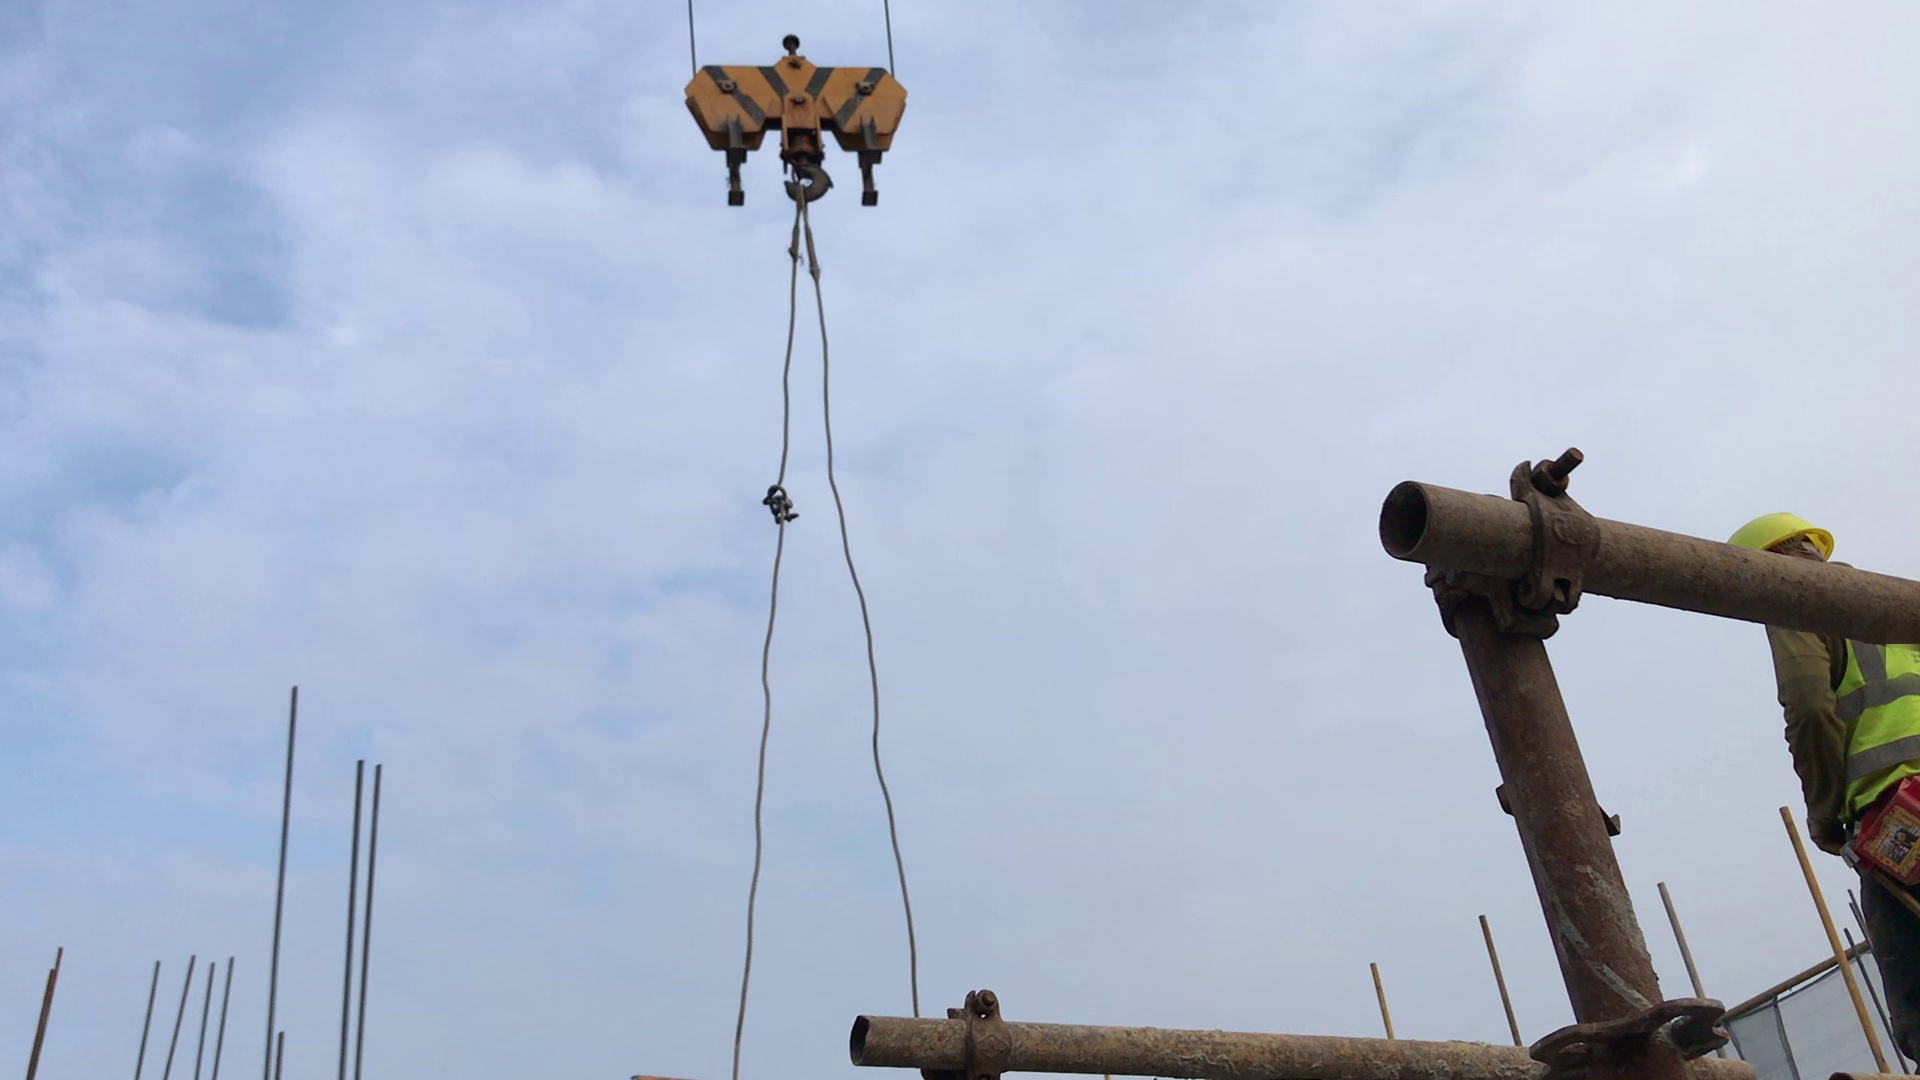helmet: (1717, 512, 1839, 560)
hook: (683, 35, 905, 211)
person: (1721, 514, 1920, 1057)
vest: (1829, 629, 1920, 822)
